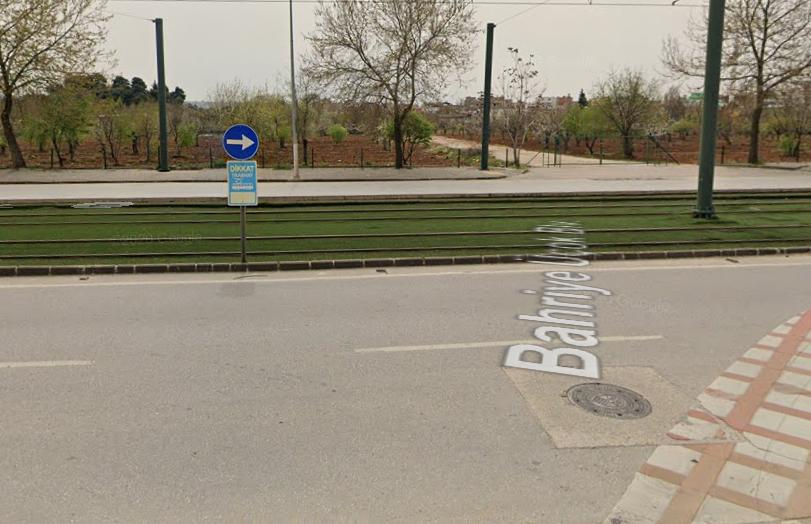turnright: (223, 121, 261, 162)
